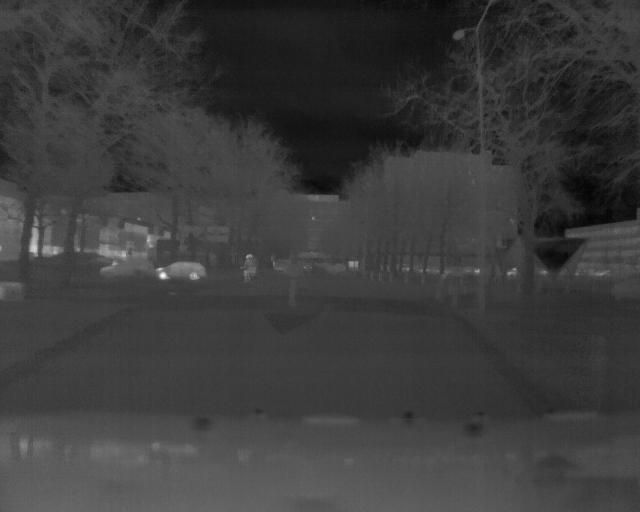car: (152, 257, 209, 282)
person: (240, 253, 255, 284)
